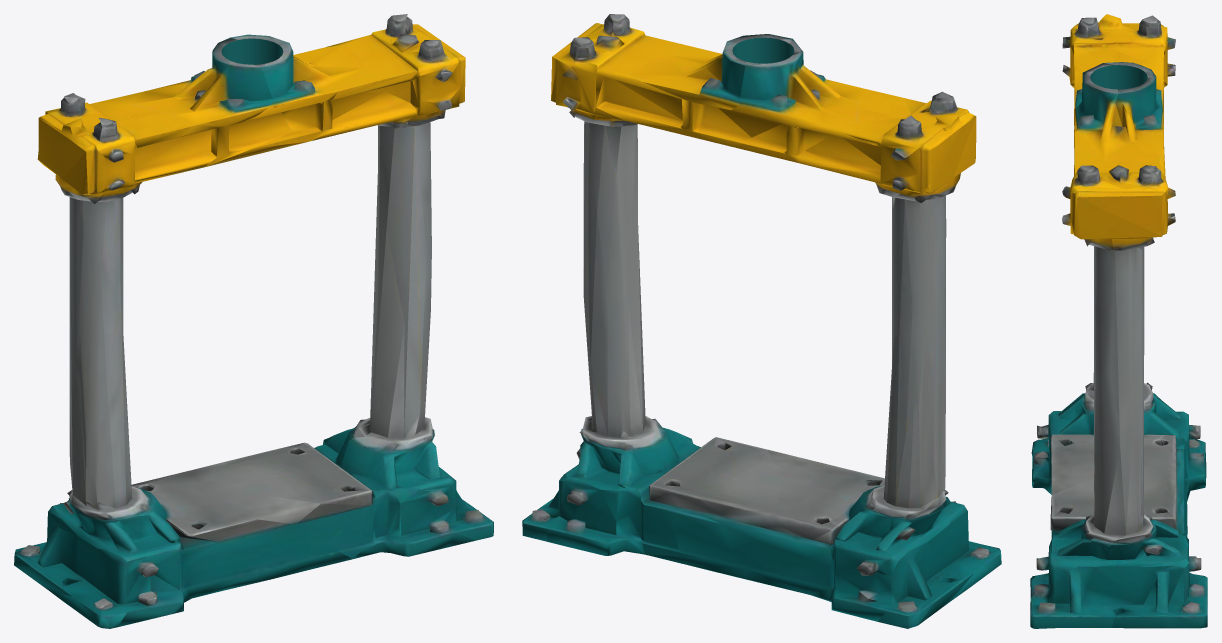
The model's file is safety-press.glb.
3 renders of one model, left to right at view 1: azimuth 30°, elevation 25°; view 2: azimuth 150°, elevation 25°; view 3: azimuth 270°, elevation 25°, orthographic. The views are drawn at different scales.
Visible parts, largest first — view 1: safety-press-body; view 2: safety-press-body; view 3: safety-press-body.
Part boxes in pixels (bbox=[...]): safety-press-body: bbox=[14, 14, 493, 628]; safety-press-body: bbox=[522, 14, 1001, 628]; safety-press-body: bbox=[1030, 14, 1207, 628].
Bounding box in the file's own units: 1.9 × 2.3 × 0.8.
Materials: 1 (1 with a texture image).
